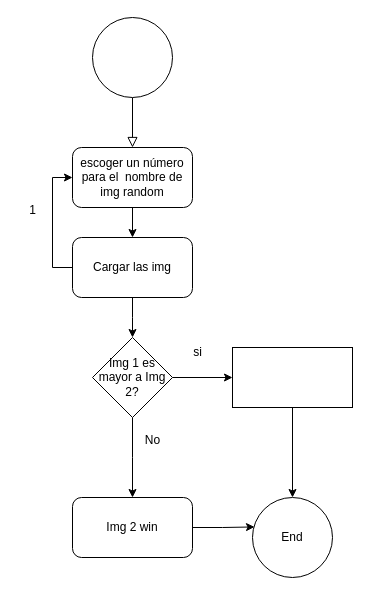
Image size: 370x595. Some labels were removed from this diagram. Each missing label, with the centre of its shape:
"Img 1 win" goes at (x=292, y=377).
"Start" goes at (x=132, y=57).
